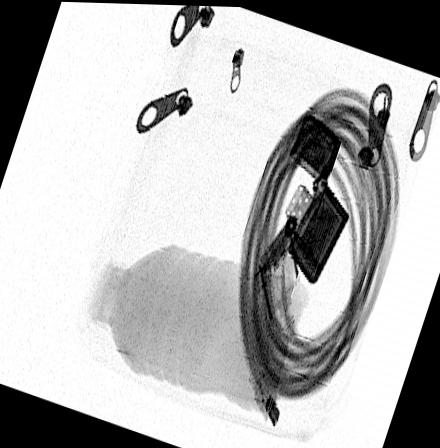Lighter: (284, 112, 351, 282)
